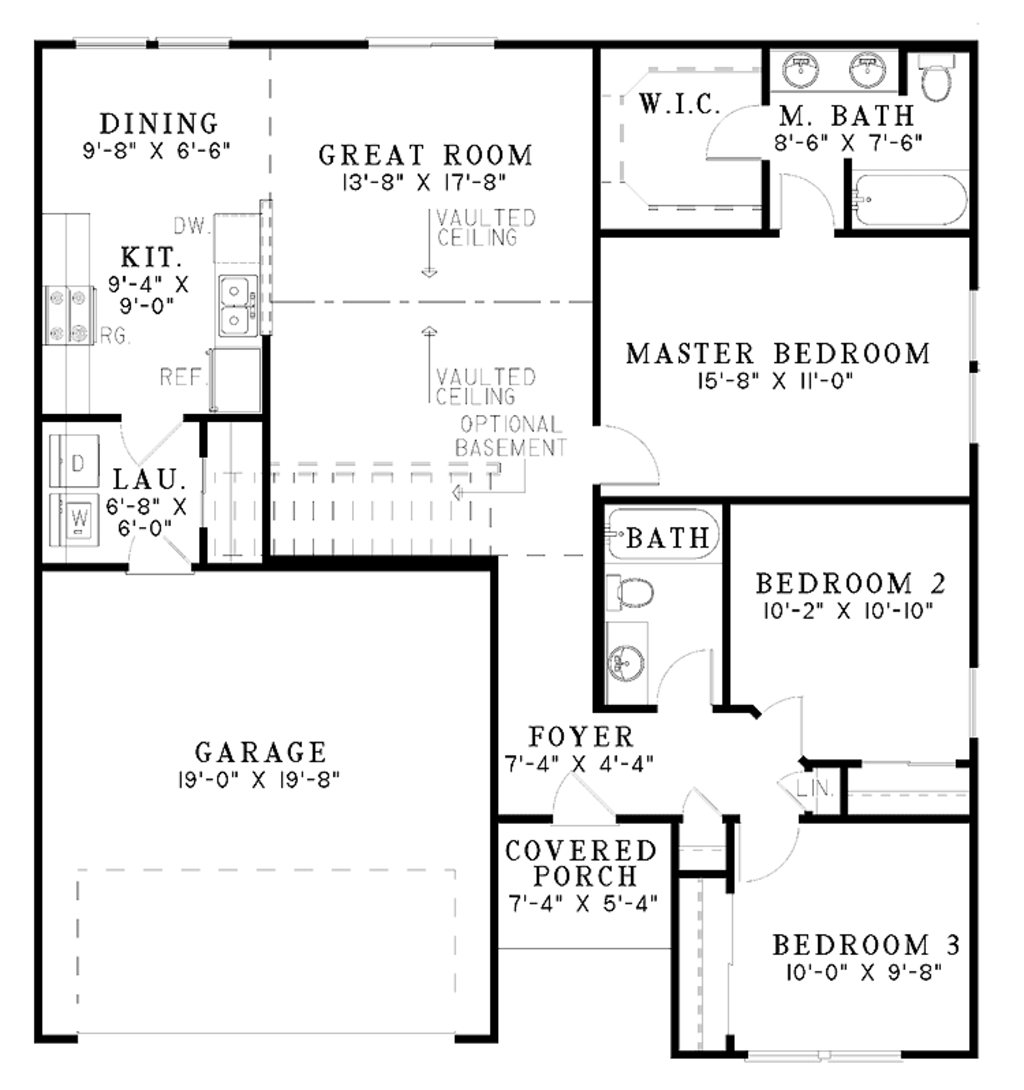door: (587, 418, 662, 490), (701, 99, 768, 169), (655, 644, 717, 715), (773, 167, 833, 239), (550, 765, 617, 825), (117, 413, 185, 469), (120, 515, 184, 573), (756, 691, 807, 763), (676, 784, 722, 827)
large_sink: (602, 568, 658, 619), (914, 48, 960, 106)
small_sink: (769, 44, 904, 99), (601, 620, 654, 706)
tub: (601, 503, 723, 571), (849, 167, 971, 230)
twin_sink: (207, 269, 260, 340)
window: (359, 27, 499, 59), (739, 1046, 914, 1069), (72, 30, 236, 53), (965, 286, 986, 448), (963, 663, 986, 745)
